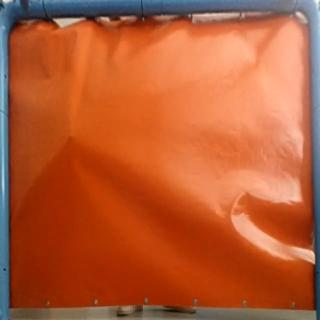Hit-hRxx: (61, 131, 80, 143)
